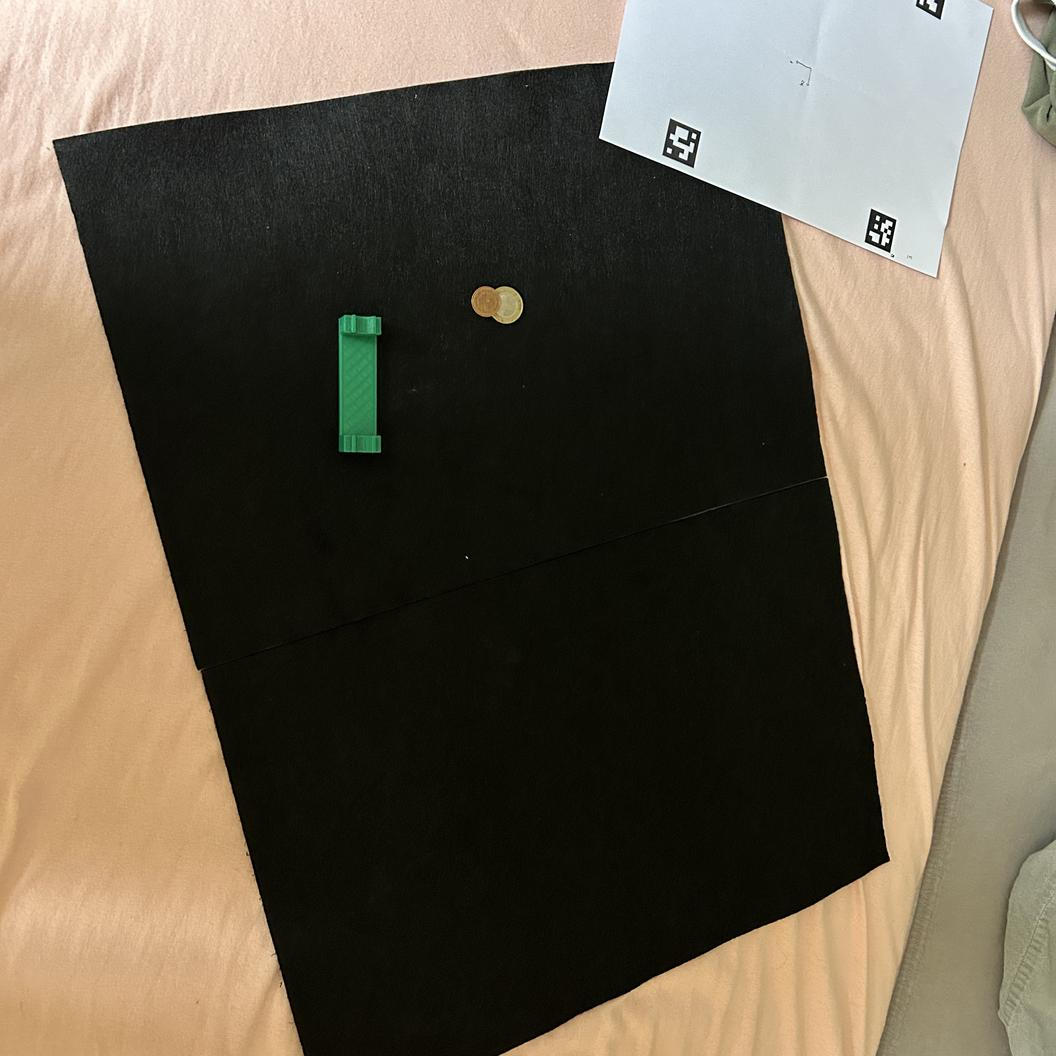holder: (337, 312, 383, 453)
